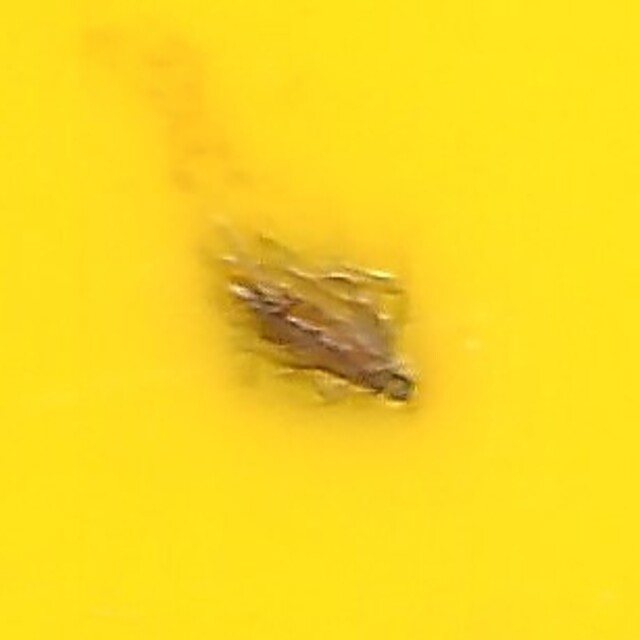Trichoptera: (208, 220, 432, 420)
